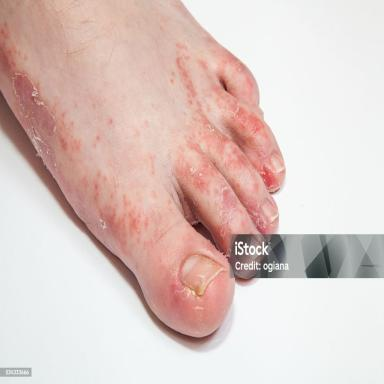eczema: (171, 46, 285, 253), (0, 20, 78, 185), (169, 230, 217, 319), (94, 172, 139, 248)
